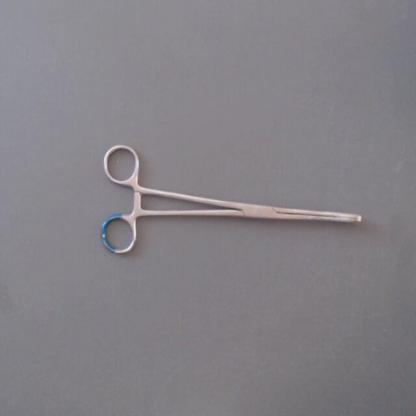Sponge Forceps: (93, 139, 367, 265)
